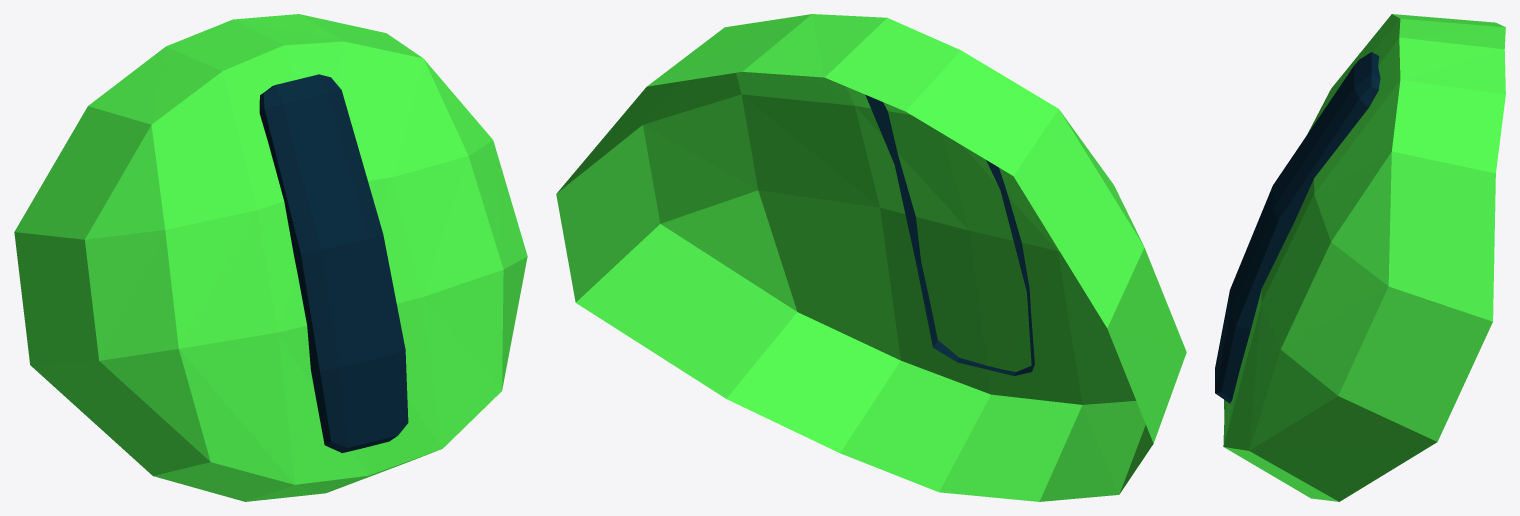
Rendered from LightAnimtor.fbx.
3 renders of one model, left to right at view 1: azimuth 30°, elevation 25°; view 2: azimuth 150°, elevation 25°; view 3: azimuth 270°, elevation 25°, orthographic. The views are drawn at different scales.
Parts seen in each view (by area): view 1: Eye_Green; view 2: Eye_Green; view 3: Eye_Green.
Part boxes in pixels (left/top/right/bottom): Eye_Green: left=14, top=14, right=527, bottom=501; Eye_Green: left=556, top=14, right=1186, bottom=501; Eye_Green: left=1215, top=14, right=1505, bottom=501.
Size of the model in its own units: 5.47 by 4.63 by 2.83.
